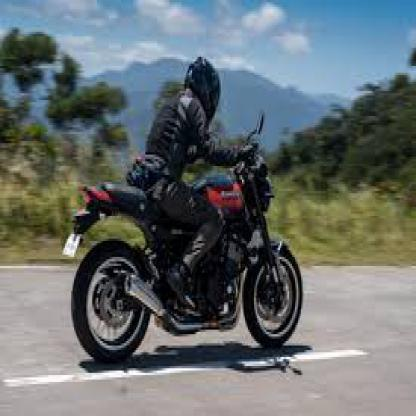Motorcycle: (57, 152, 305, 365)
